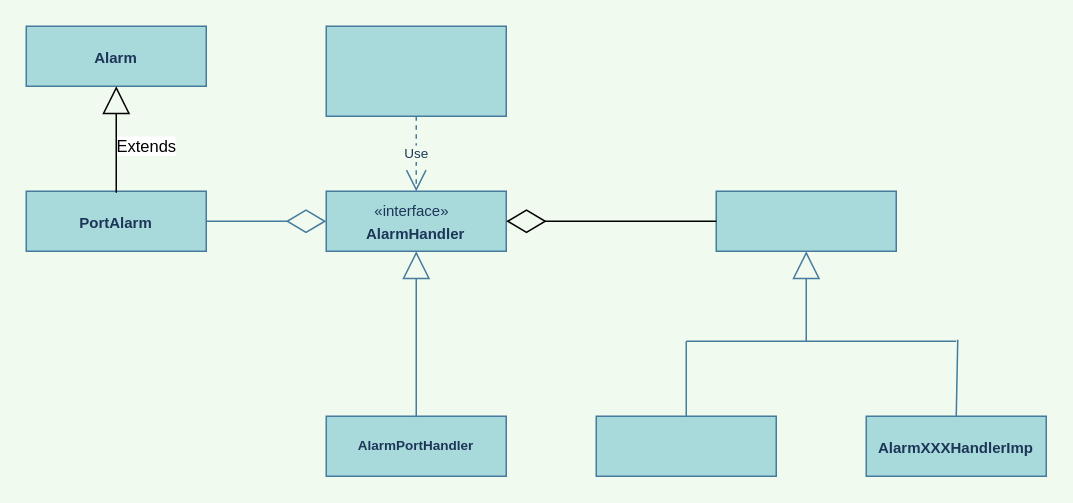
This 1073x503 diagram has some shape labels left out. The shapes that lost their labels are listed below. From the top down, each one's box as (x1, y1, x2, y2) in pixels, then its label:
(325, 25, 506, 116): Eqpt_Hwa
(715, 190, 896, 251): AlarmHandlerImp
(595, 415, 776, 476): AlarmPortHandlerImp
